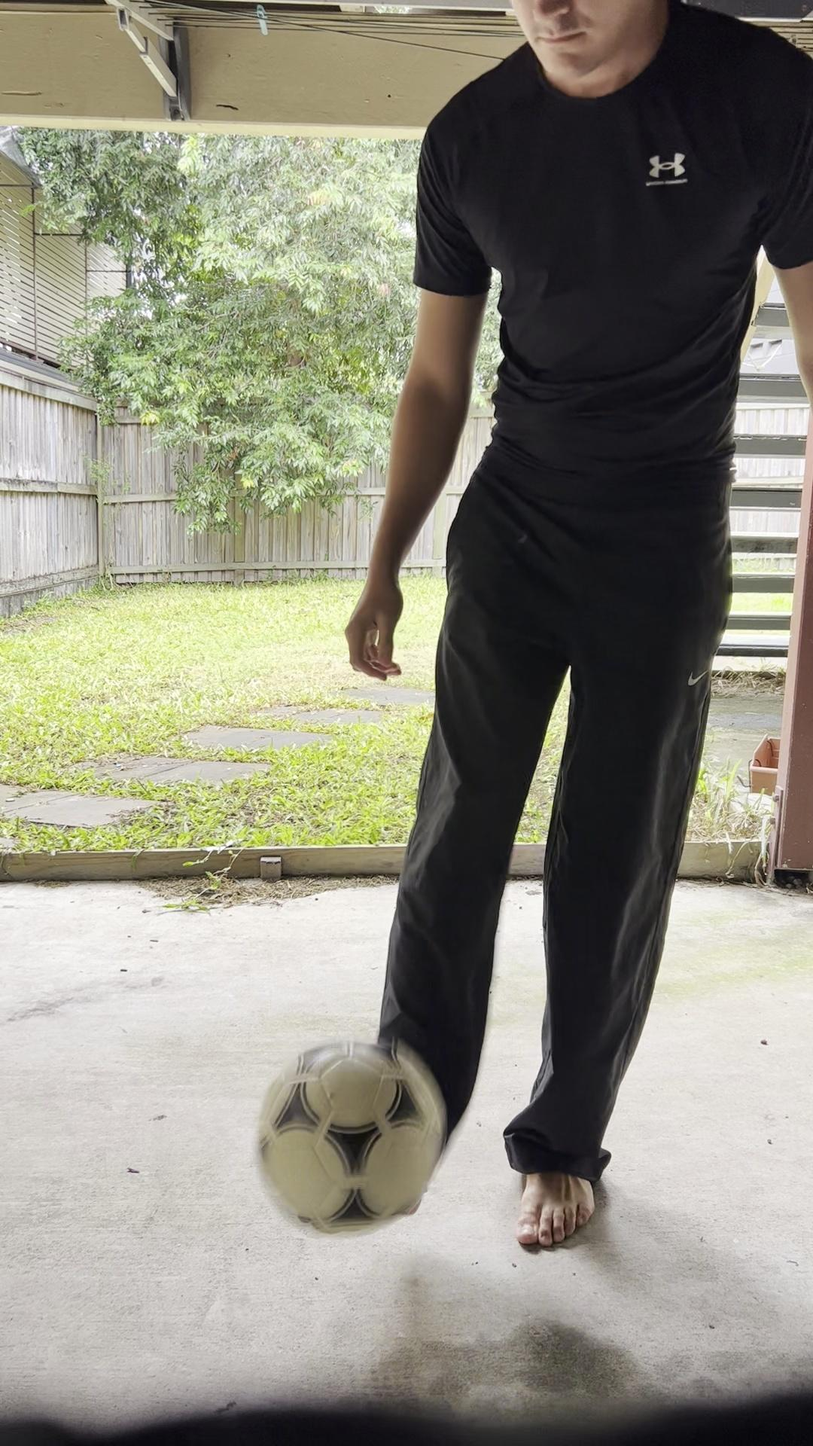ball: (262, 1037, 443, 1233)
foot: (517, 1170, 595, 1251)
person: (342, 0, 813, 1250)
